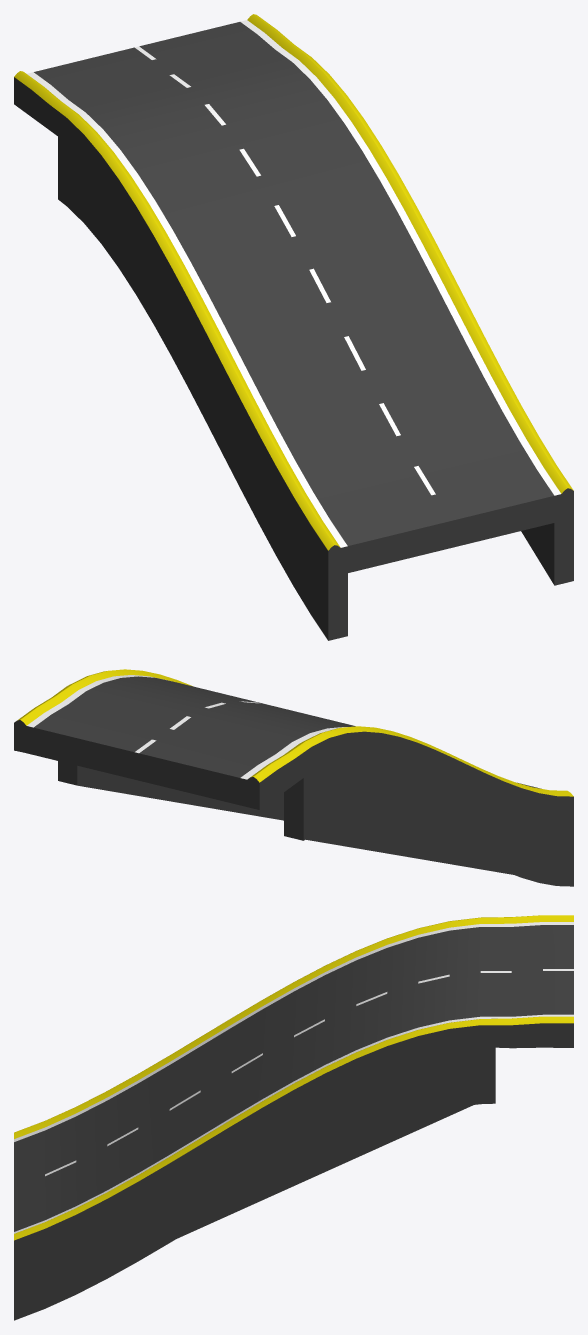
Rendered from platform6.fbx.
3 views of the same model, one above another, from view 1: azimuth 30°, elevation 25°; view 2: azimuth 150°, elevation 25°; view 3: azimuth 270°, elevation 25° (orthographic). The views are drawn at different scales.
Visible parts, largest first — view 1: Cube.002; view 2: Cube.002; view 3: Cube.002.
Boxes of the visible parts, x1,y1,x2,y2 form: Cube.002: [14, 14, 573, 640]; Cube.002: [14, 669, 573, 886]; Cube.002: [14, 915, 573, 1320].
Size of the model in its own units: 572 by 753 by 1267.
Materials: 1 (1 with a texture image).
